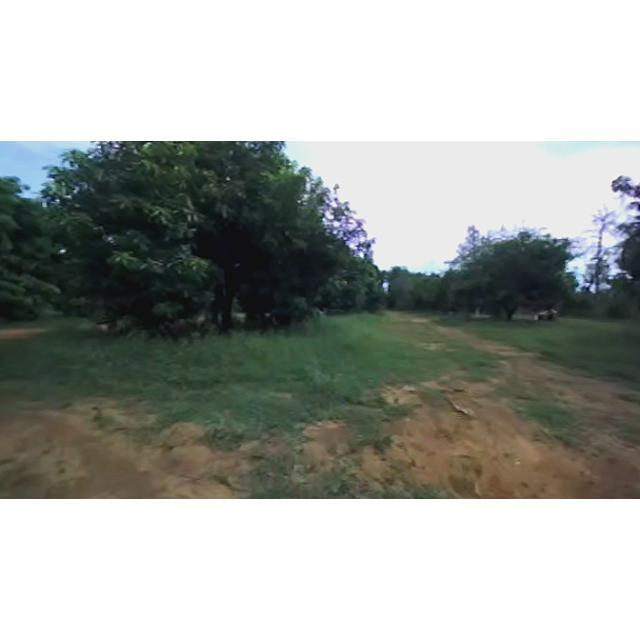direk: (43, 142, 383, 348), (450, 214, 570, 328), (1, 170, 70, 330), (583, 195, 613, 308), (412, 272, 452, 312), (386, 257, 414, 313)
